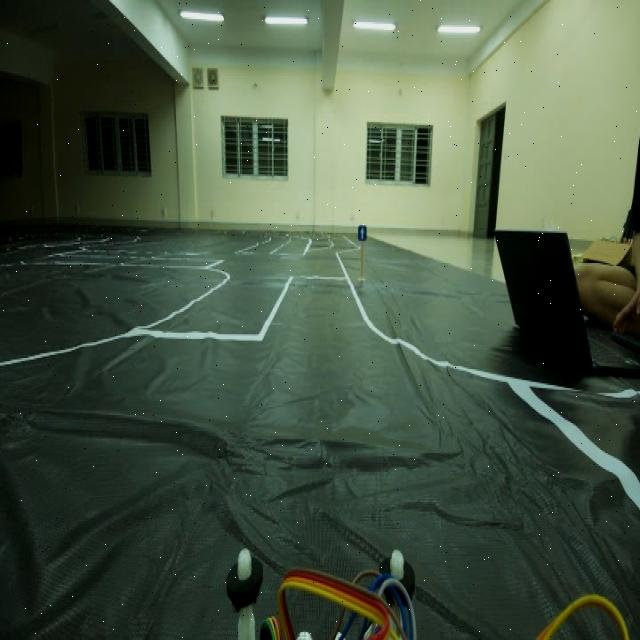onewayroad: (352, 216, 373, 250)
